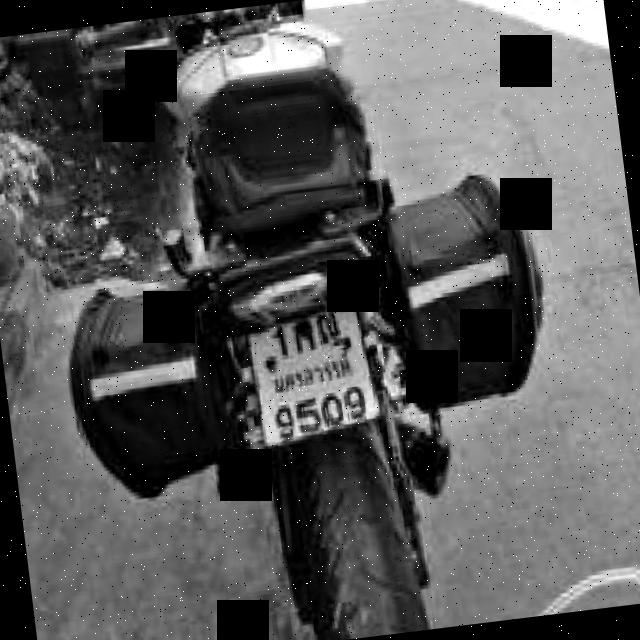letters: (316, 306, 351, 350), (264, 316, 291, 360), (286, 317, 318, 354), (268, 397, 294, 442), (300, 396, 324, 436), (344, 386, 366, 422), (323, 391, 344, 427)
license-plate: (243, 302, 377, 450)
province: (256, 354, 380, 389)
